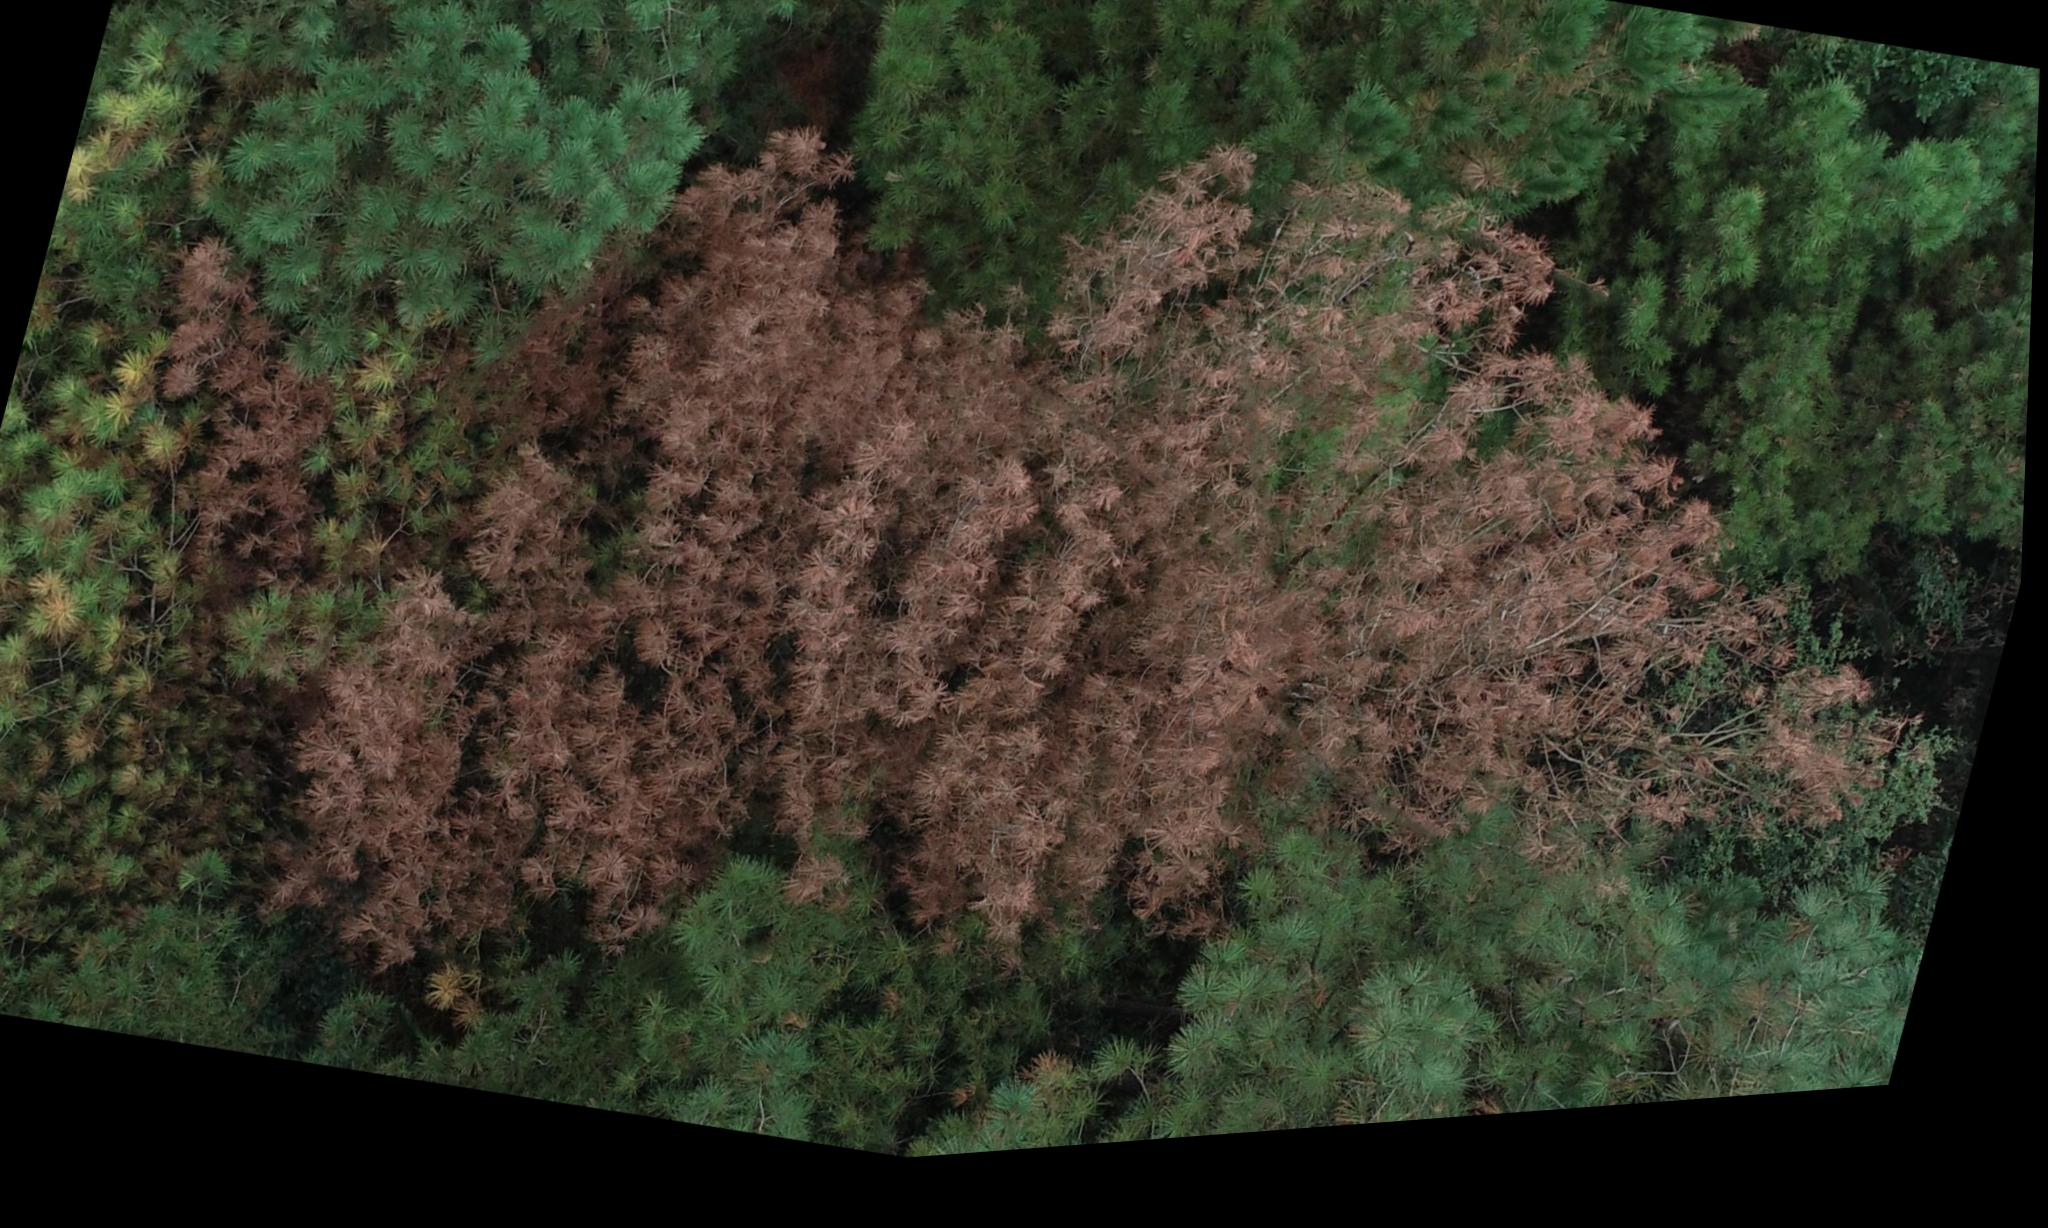heavy: (42, 0, 2048, 1224)
light: (0, 303, 276, 936)
